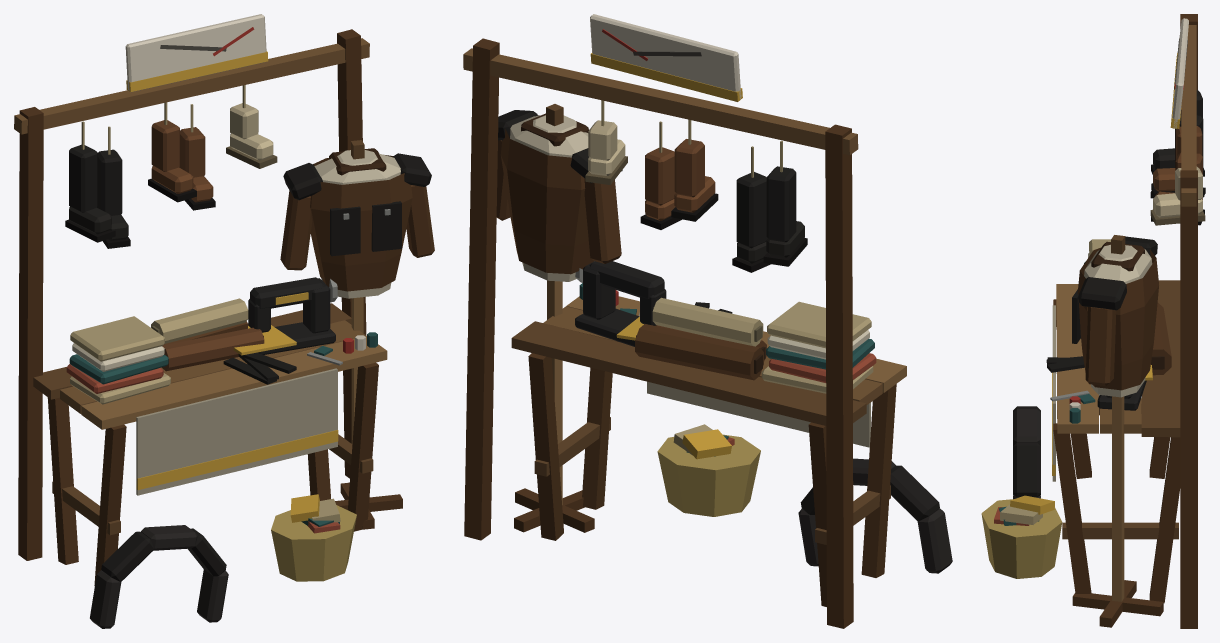
File: estacao_mercante.glb
The picture shows the model from 3 angles, left to right: view 1: azimuth 30°, elevation 25°; view 2: azimuth 150°, elevation 25°; view 3: azimuth 270°, elevation 25°; orthographic projection. The views are drawn at different scales.
Visible parts, largest first — view 1: estacao_mercante.001; view 2: estacao_mercante.001; view 3: estacao_mercante.001.
Part boxes in pixels (x1=…): estacao_mercante.001: x1=14, y1=14, x2=434, y2=628; estacao_mercante.001: x1=463, y1=14, x2=952, y2=628; estacao_mercante.001: x1=981, y1=14, x2=1205, y2=628.
Bounding box in the file's own units: 1.72 × 2.28 × 0.8846.
